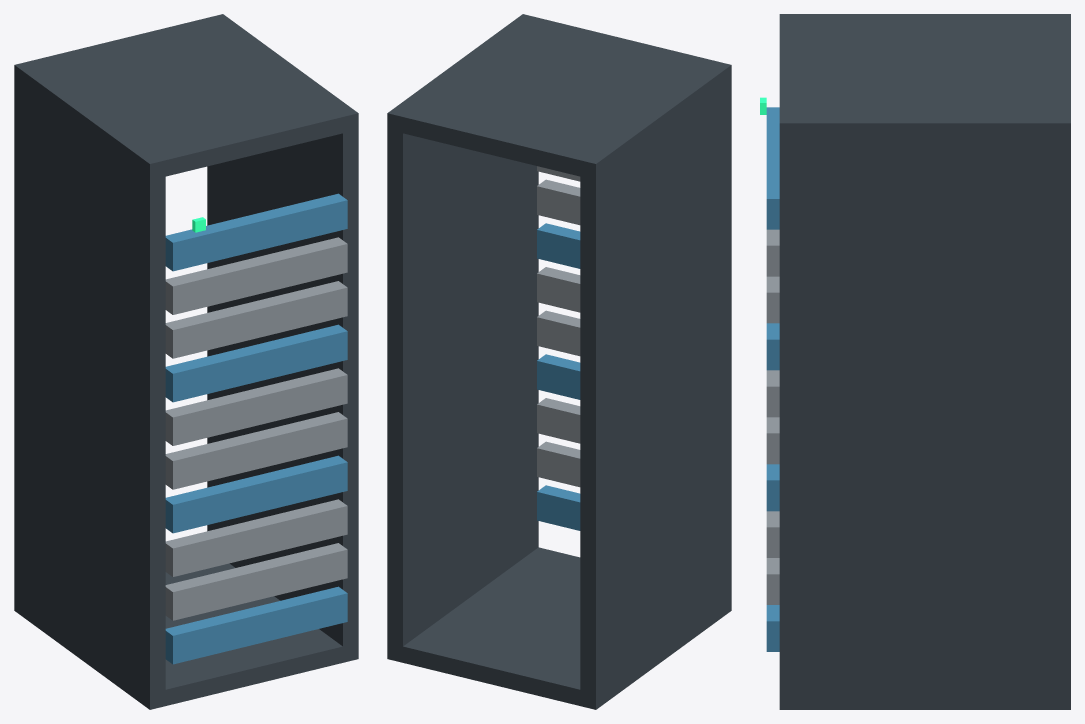
File: data-rack-representative.gltf
The picture shows the model from 3 angles, left to right: view 1: azimuth 30°, elevation 25°; view 2: azimuth 150°, elevation 25°; view 3: azimuth 270°, elevation 25°; orthographic projection. The views are drawn at different scales.
Visible parts, largest first — view 1: left, top, right, bottom, server1, server4, server0, server2, server7, server3, server5, server6 (+2 smaller); view 2: left, right, top, bottom, server0, server3, server4, server6, server7, server1, server2, server5; view 3: right, top, left, server9, server3, server4, server5, server6, server8, server7, server0, server1 (+1 smaller).
Part boxes in pixels (bbox=[...]): left: bbox=[14, 61, 165, 709]; top: bbox=[14, 14, 358, 176]; right: bbox=[207, 14, 358, 662]; bottom: bbox=[15, 563, 357, 709]; server1: bbox=[165, 543, 347, 620]; server4: bbox=[165, 412, 347, 489]; server0: bbox=[165, 586, 347, 664]; server2: bbox=[165, 499, 347, 576]; server7: bbox=[165, 281, 347, 358]; server3: bbox=[165, 455, 347, 533]; server5: bbox=[165, 368, 347, 445]; server6: bbox=[165, 324, 347, 402]; left: bbox=[580, 61, 731, 709]; right: bbox=[387, 14, 538, 662]; top: bbox=[387, 15, 731, 179]; bottom: bbox=[388, 547, 731, 709]; server0: bbox=[537, 485, 580, 530]; server3: bbox=[537, 354, 580, 399]; server4: bbox=[537, 310, 580, 356]; server6: bbox=[537, 223, 580, 268]; server7: bbox=[537, 179, 580, 225]; server1: bbox=[537, 441, 580, 487]; server2: bbox=[537, 398, 580, 443]; server5: bbox=[537, 267, 580, 312]; right: bbox=[779, 115, 1070, 709]; top: bbox=[779, 14, 1070, 140]; left: bbox=[779, 14, 1070, 22]; server9: bbox=[766, 107, 779, 229]; server3: bbox=[766, 464, 779, 511]; server4: bbox=[766, 417, 779, 464]; server5: bbox=[766, 370, 779, 417]; server6: bbox=[766, 323, 779, 370]; server8: bbox=[766, 229, 779, 276]; server7: bbox=[766, 276, 779, 323]; server0: bbox=[766, 605, 779, 651]; server1: bbox=[766, 558, 779, 604].
Size of the model in its own units: 0.8 by 2 by 0.96.
